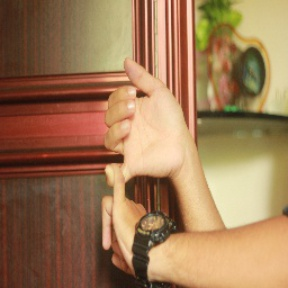S: (88, 56, 189, 276)
